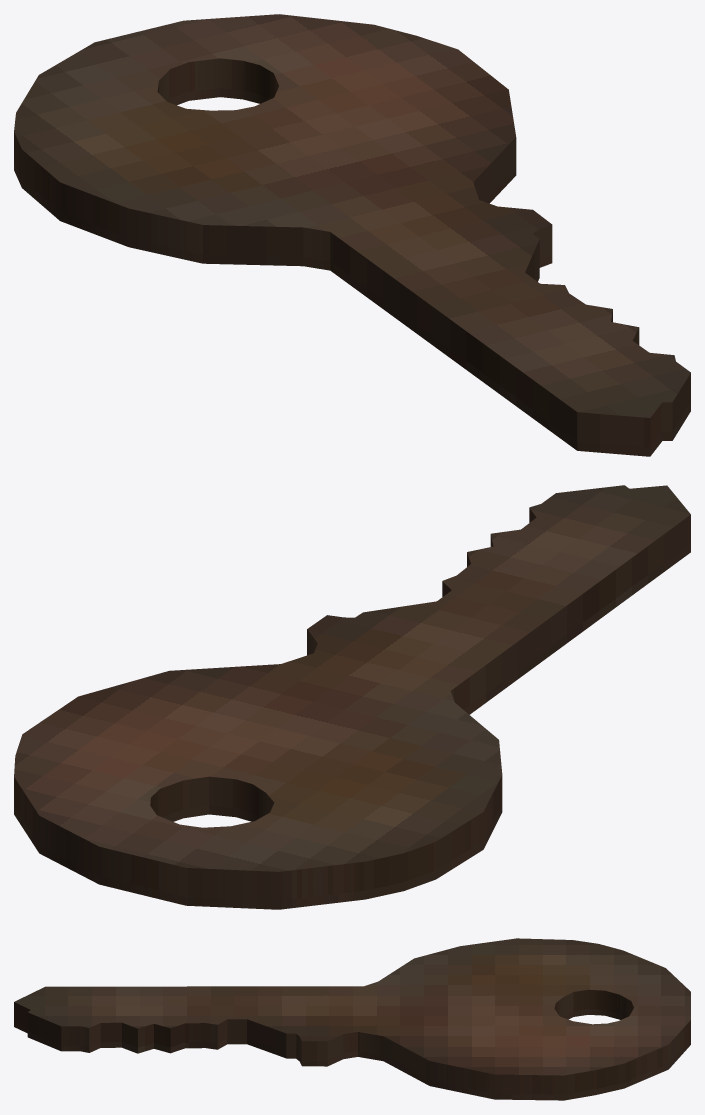
Rendered from key_mp_1_1.glb.
The picture shows the model from 3 angles, top to bottom: view 1: azimuth 30°, elevation 25°; view 2: azimuth 150°, elevation 25°; view 3: azimuth 270°, elevation 25°; orthographic projection. The views are drawn at different scales.
Parts seen in each view (by area): view 1: key_mp_1_1; view 2: key_mp_1_1; view 3: key_mp_1_1.
Part boxes in pixels (x1=…): key_mp_1_1: x1=14, y1=14, x2=690, y2=456; key_mp_1_1: x1=14, y1=485, x2=690, y2=909; key_mp_1_1: x1=14, y1=938, x2=690, y2=1100.
Size of the model in its own units: 0.0352 by 0.00301 by 0.0735.
1 material, 1 textured.
